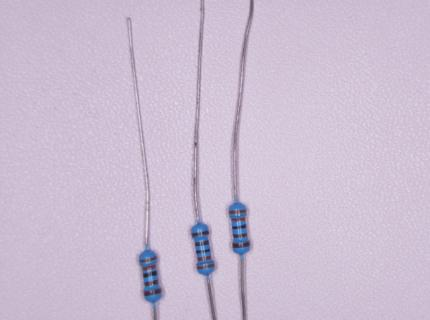Black band: (143, 270, 158, 279), (232, 223, 247, 230), (196, 248, 210, 254)
Brown band: (143, 289, 162, 297), (191, 230, 210, 237), (144, 279, 159, 286), (194, 240, 209, 247), (233, 242, 250, 248), (233, 233, 248, 239)
Orange band: (197, 263, 215, 270), (139, 256, 157, 263), (142, 264, 157, 272), (229, 208, 247, 214), (231, 217, 245, 223), (198, 256, 212, 262)
